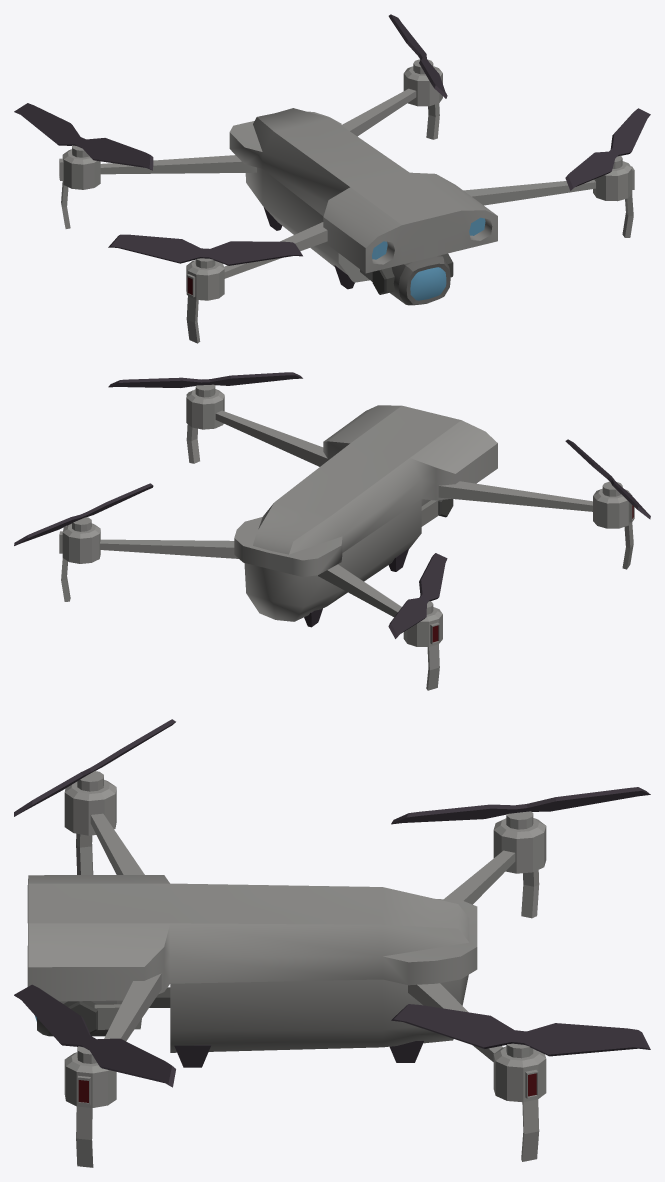
File: Drone_01.fbx
3 renders of one model, top to bottom at view 1: azimuth 30°, elevation 25°; view 2: azimuth 150°, elevation 25°; view 3: azimuth 270°, elevation 25°, orthographic. The views are drawn at different scales.
Visible parts, largest first — view 1: Drone_Arms_01; view 2: Drone_Arms_01; view 3: Drone_Arms_01.
Part boxes in pixels (<box>): Drone_Arms_01: <box>14,14,650,343</box>; Drone_Arms_01: <box>14,372,650,690</box>; Drone_Arms_01: <box>14,719,650,1167</box>.
Size of the model in its own units: 2.23 by 0.4499 by 1.65.
